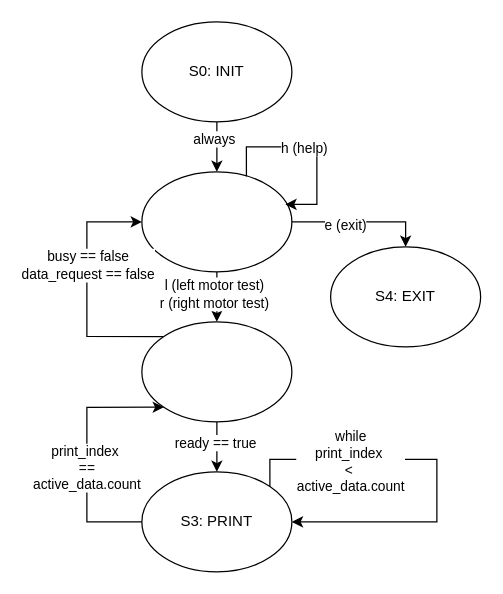
This 503x594 diagram has some shape labels left out. Here are the shapes that lost their labels. From the top down, the box of each, then its label:
(141, 171, 292, 272): S1: WAIT
(141, 321, 292, 422): S2: WAIT FOR RESULT
